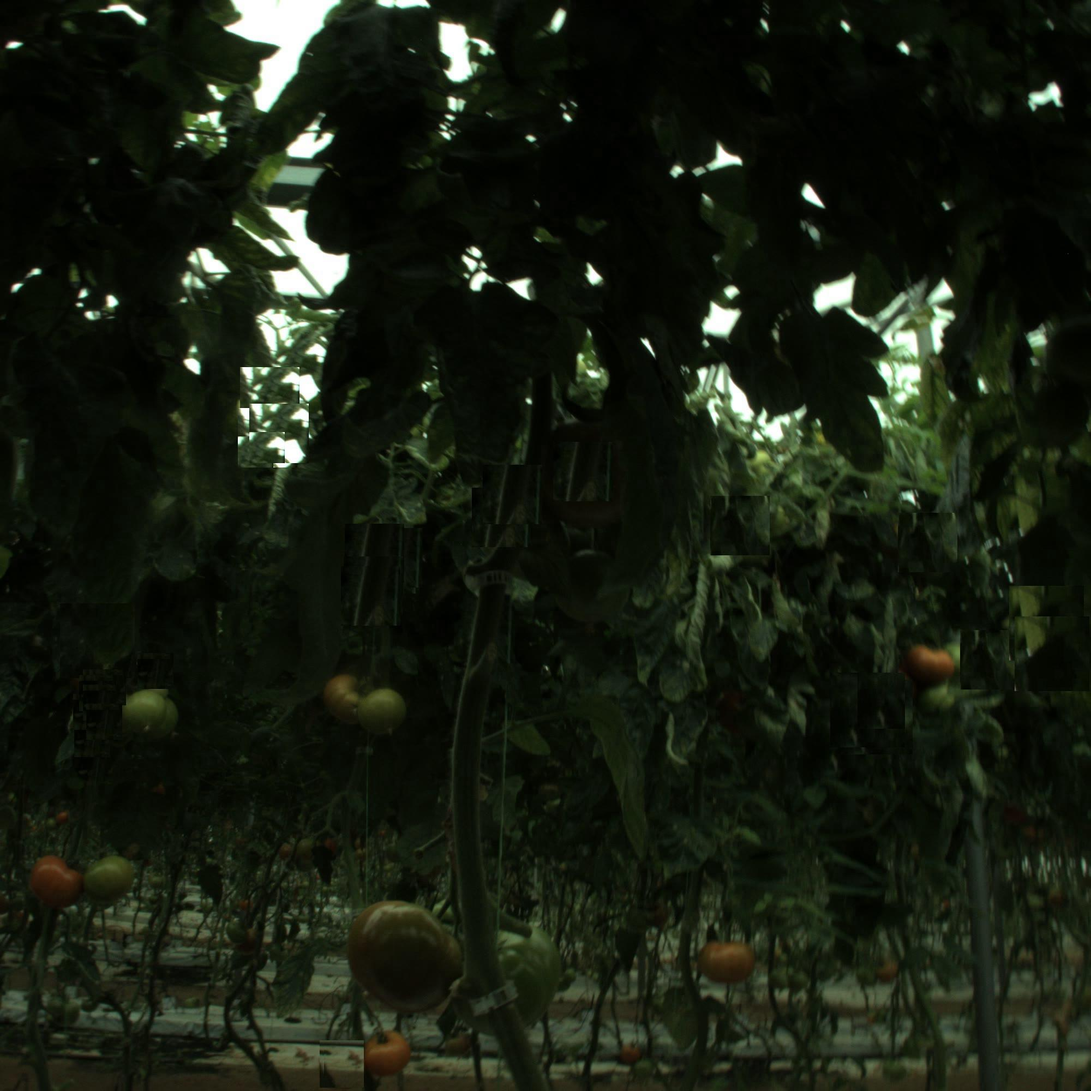fully-ripe: (25, 854, 85, 914), (365, 1028, 410, 1073)
semi-ripe: (339, 892, 463, 1015), (319, 673, 379, 733), (904, 638, 955, 688), (701, 935, 751, 985)
unripe: (460, 919, 562, 1021), (358, 692, 413, 747), (123, 689, 177, 744), (82, 855, 133, 905)
